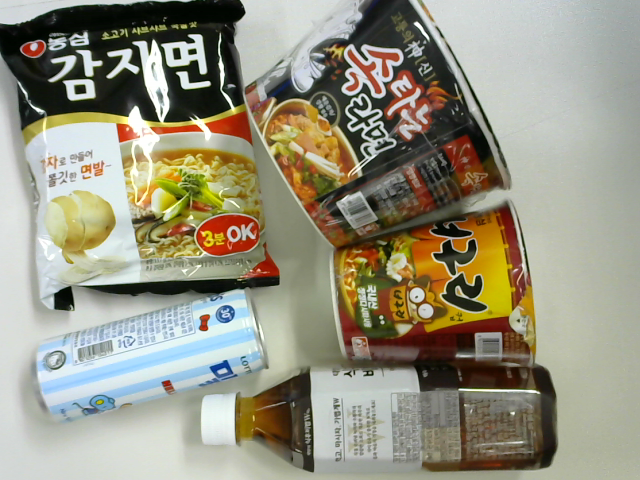HeJangsock: (241, 4, 509, 240)
Milkies_250ml: (21, 294, 277, 420)
Post-meal_recipe_W_tea_500ml: (201, 354, 557, 480)
Potato: (1, 8, 283, 310)
Raccoon: (321, 204, 545, 368)
